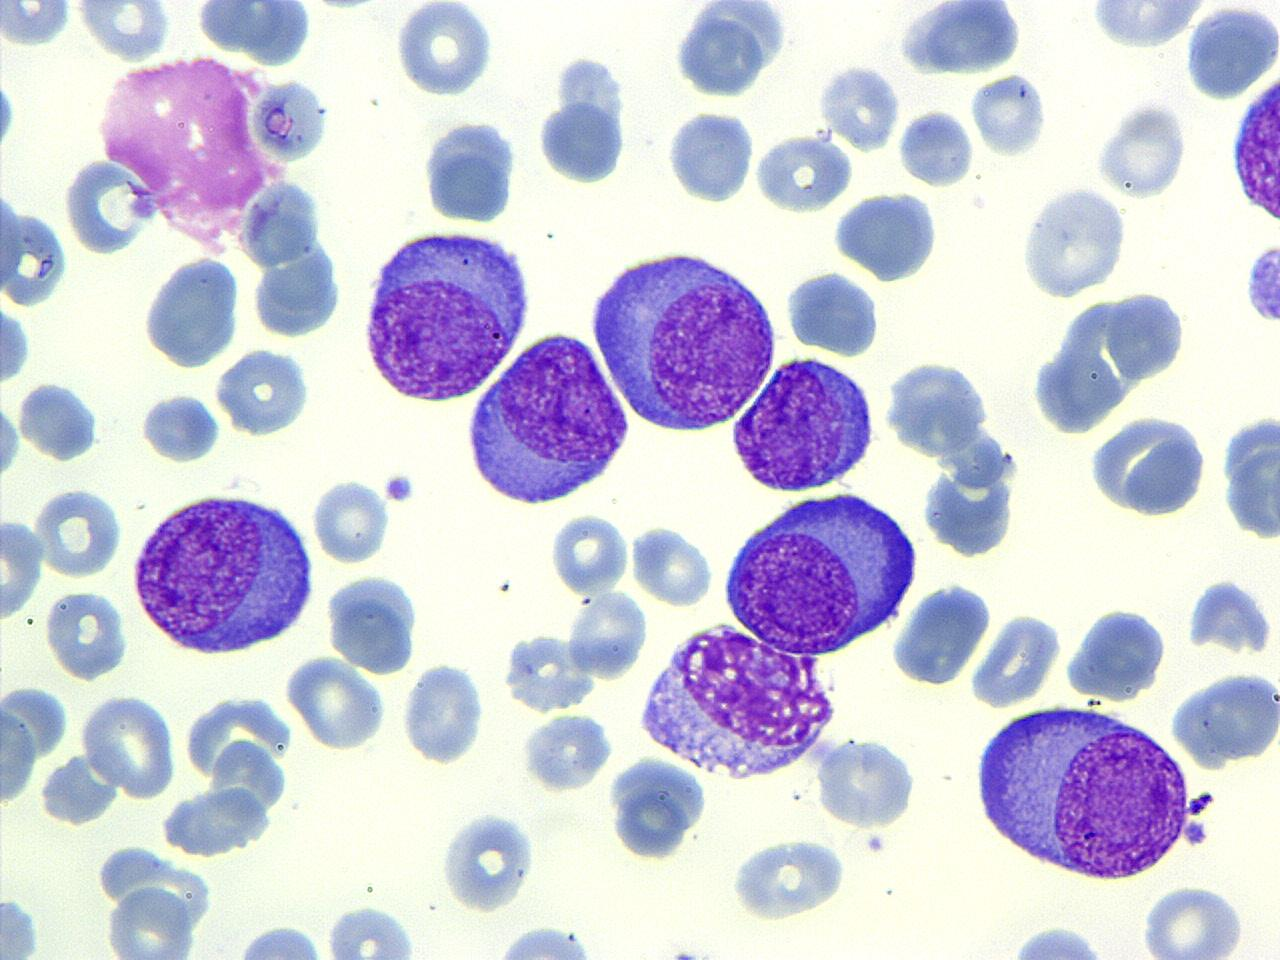Platelets: (436, 808, 539, 914), (391, 2, 500, 99), (1093, 98, 1191, 200), (629, 520, 715, 610), (1184, 576, 1276, 658), (968, 73, 1051, 159), (310, 476, 392, 562), (74, 4, 176, 61), (0, 3, 76, 49), (1244, 239, 1280, 327), (0, 301, 34, 389), (0, 894, 44, 960), (0, 400, 23, 480), (0, 79, 18, 152), (382, 471, 416, 506), (303, 0, 378, 15), (1182, 818, 1210, 848), (1185, 791, 1215, 818), (664, 942, 708, 960)
RBC: (282, 652, 386, 754), (80, 691, 178, 799), (395, 2, 501, 101), (60, 155, 157, 256), (1136, 878, 1254, 959), (32, 484, 124, 579), (44, 585, 130, 684), (568, 584, 650, 680), (628, 520, 716, 608), (100, 883, 197, 959), (252, 74, 334, 163), (311, 474, 390, 566), (548, 510, 630, 595), (896, 104, 976, 189), (74, 2, 173, 62), (0, 515, 46, 622), (0, 693, 39, 807), (0, 0, 75, 49)
WBC: (93, 46, 320, 251), (967, 694, 1197, 886), (586, 242, 781, 438), (718, 485, 920, 659), (127, 482, 319, 662), (638, 616, 839, 784), (355, 220, 536, 406), (464, 326, 634, 510), (1024, 282, 1190, 438), (156, 697, 299, 868), (728, 351, 880, 495), (914, 381, 1025, 564), (240, 173, 351, 345), (1084, 409, 1212, 520), (534, 50, 634, 190), (1018, 182, 1132, 301), (141, 250, 245, 371), (669, 0, 793, 101), (1167, 664, 1280, 771), (605, 752, 711, 866), (728, 832, 852, 928), (890, 576, 993, 690), (419, 116, 522, 228), (830, 186, 944, 287), (323, 568, 426, 678), (1061, 602, 1171, 704), (436, 808, 540, 912), (814, 733, 921, 832), (1093, 96, 1191, 204), (966, 606, 1065, 712), (85, 696, 181, 803), (212, 344, 318, 440), (398, 659, 490, 769), (894, 0, 1025, 76), (1182, 2, 1280, 103), (64, 154, 160, 256), (32, 482, 129, 582), (664, 104, 758, 206), (783, 266, 884, 356), (516, 708, 617, 796), (754, 129, 856, 216), (1229, 62, 1280, 232), (1220, 406, 1280, 547), (500, 630, 600, 713), (816, 58, 902, 154), (2, 199, 73, 312), (190, 1, 317, 63), (16, 379, 105, 465), (1183, 578, 1277, 658), (969, 70, 1049, 160), (896, 104, 976, 190), (1081, 0, 1211, 52), (138, 388, 223, 464), (323, 901, 418, 960), (982, 920, 1129, 958), (476, 922, 610, 958), (224, 921, 335, 958), (1, 168, 30, 306), (0, 300, 32, 388)
